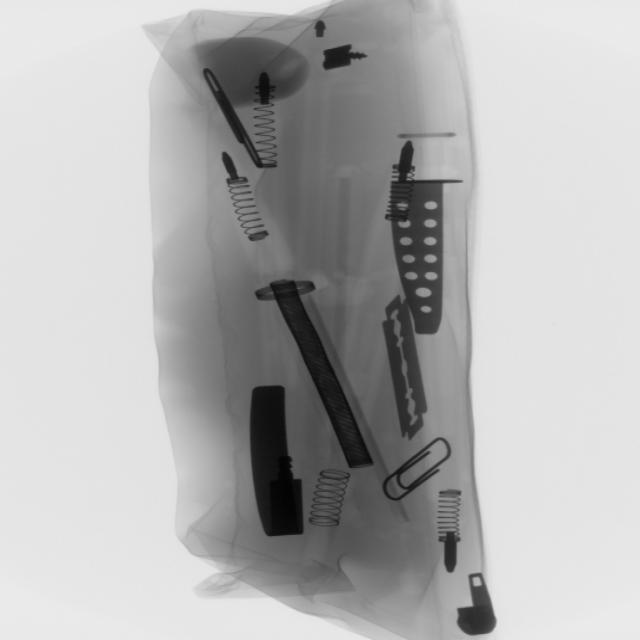BLADE: (378, 290, 434, 448)
